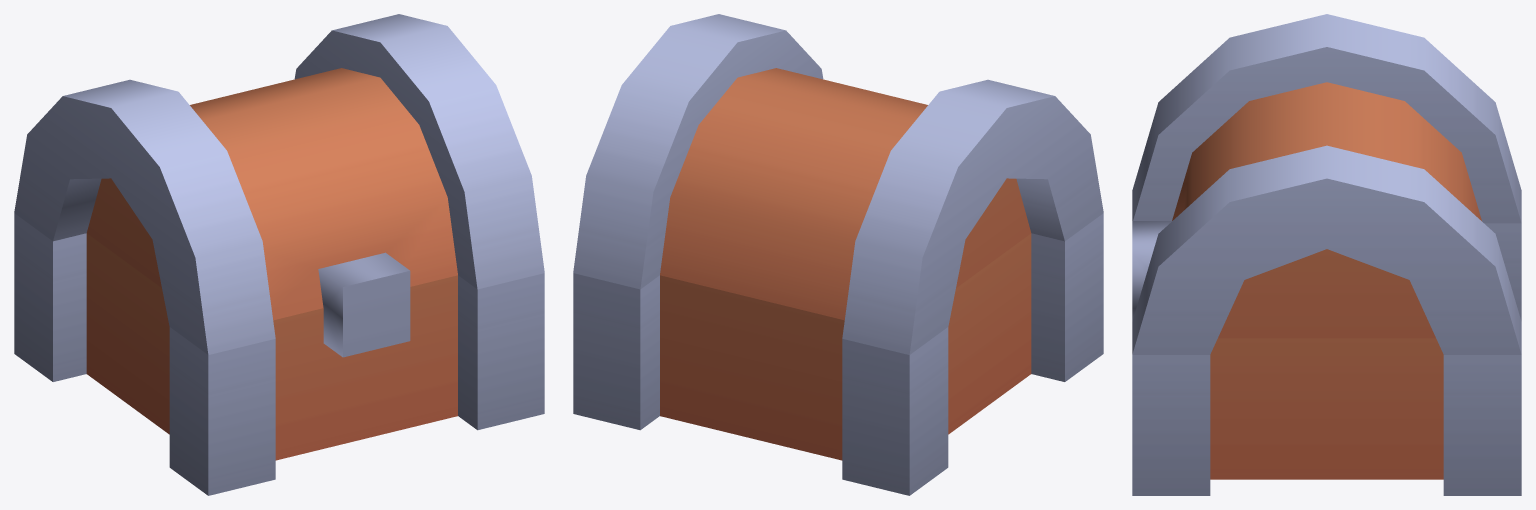
3 views of the same model, side by side, from view 1: azimuth 30°, elevation 25°; view 2: azimuth 150°, elevation 25°; view 3: azimuth 270°, elevation 25° (orthographic).
Parts seen in each view (by area): view 1: lid, chest; view 2: lid, chest; view 3: lid, chest.
Boxes of the visible parts, bbox=[...] form: lid: bbox=[14, 14, 544, 357]; chest: bbox=[14, 213, 544, 495]; lid: bbox=[573, 14, 1103, 354]; chest: bbox=[573, 213, 1103, 495]; lid: bbox=[1132, 14, 1521, 354]; chest: bbox=[1132, 223, 1521, 495].
Bounding box in the file's own units: 0.5 × 0.45 × 0.5.
Materials: 1 (1 with a texture image).
